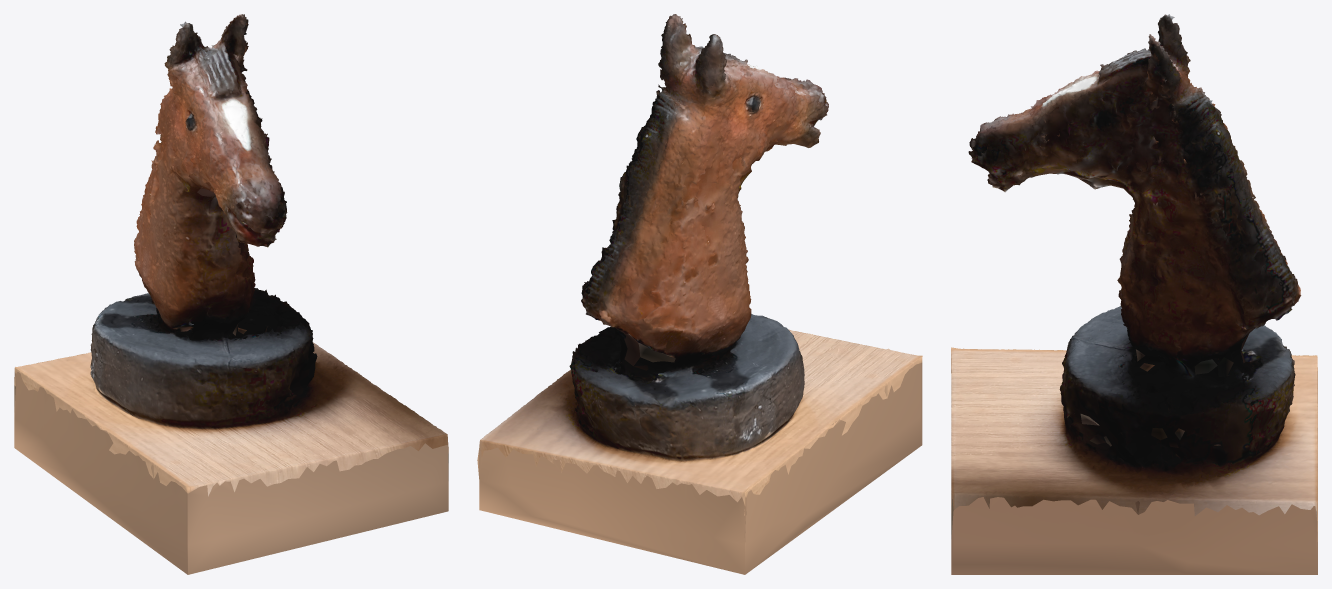
File: horse_head_sculpture.glb
The picture shows the model from 3 angles, left to right: view 1: azimuth 30°, elevation 25°; view 2: azimuth 150°, elevation 25°; view 3: azimuth 270°, elevation 25°; orthographic projection. The views are drawn at different scales.
Visible parts, largest first — view 1: Object_6, Object_5, Object_4, Object_7; view 2: Object_6, Object_7, Object_4, Object_5, Object_8; view 3: Object_6, Object_7, Object_5, Object_4.
Part boxes in pixels (x1=…): Object_6: x1=14, y1=244, x2=448, y2=574; Object_5: x1=45, y1=26, x2=446, y2=472; Object_4: x1=138, y1=14, x2=262, y2=320; Object_7: x1=14, y1=95, x2=397, y2=425; Object_6: x1=477, y1=283, x2=922, y2=574; Object_7: x1=479, y1=98, x2=828, y2=541; Object_4: x1=620, y1=14, x2=785, y2=331; Object_5: x1=586, y1=25, x2=890, y2=471; Object_8: x1=622, y1=101, x2=711, y2=252; Object_6: x1=951, y1=276, x2=1317, y2=574; Object_7: x1=1024, y1=92, x2=1317, y2=562; Object_5: x1=951, y1=46, x2=1274, y2=497; Object_4: x1=1047, y1=14, x2=1263, y2=342.
Size of the model in its own units: 0.0877 by 0.145 by 0.1002.
1 material, 1 textured.
